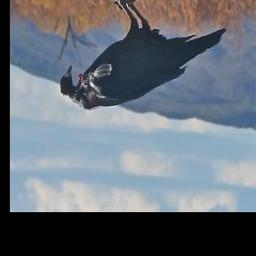Crow: (59, 0, 228, 112)
